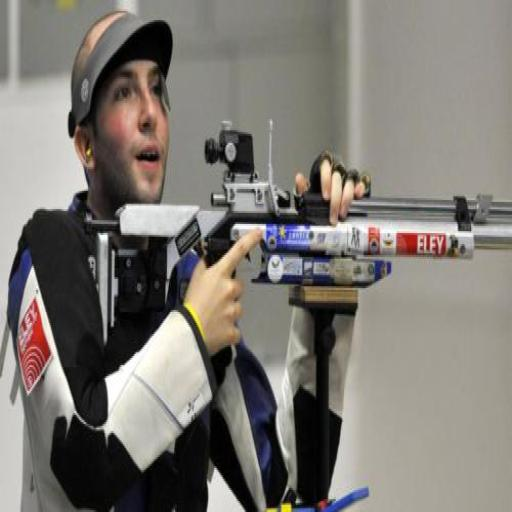shooting: (5, 8, 372, 510)
